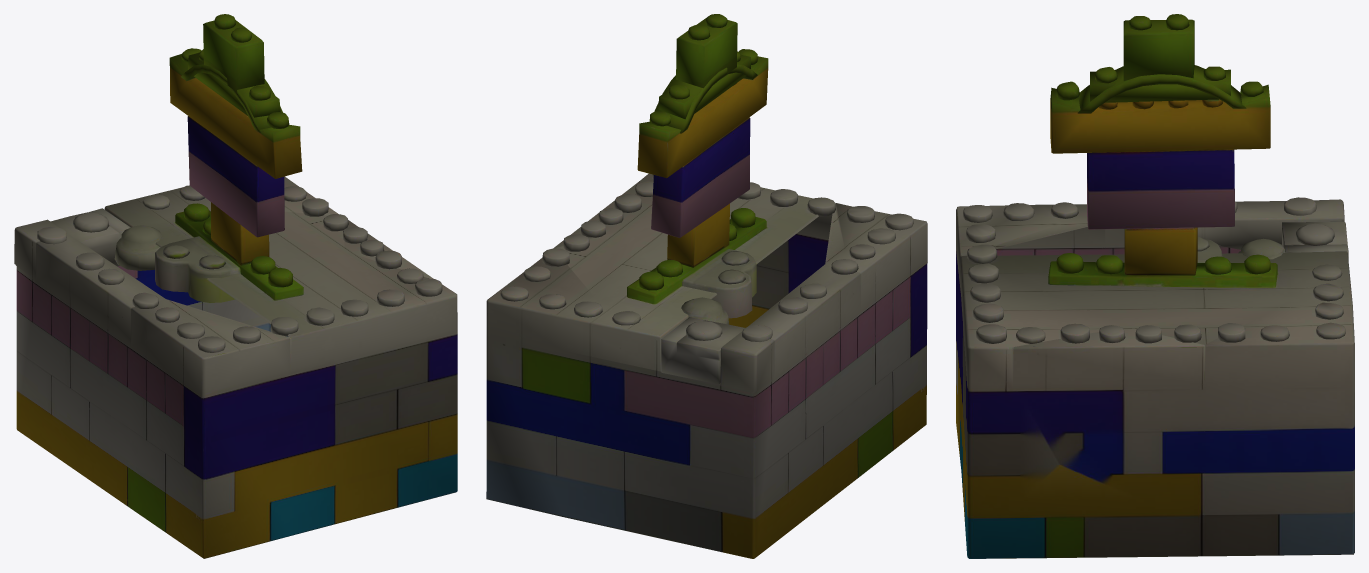
The model's file is object_71_asset_3ecd6b71.glb.
3 views of the same model, side by side, from view 1: azimuth 30°, elevation 25°; view 2: azimuth 150°, elevation 25°; view 3: azimuth 270°, elevation 25° (orthographic). The views are drawn at different scales.
Parts seen in each view (by area): view 1: tripo_node_6d704002-8f1d-427f-b623-e9d689cc9f14; view 2: tripo_node_6d704002-8f1d-427f-b623-e9d689cc9f14; view 3: tripo_node_6d704002-8f1d-427f-b623-e9d689cc9f14.
Part boxes in pixels (<box>): tripo_node_6d704002-8f1d-427f-b623-e9d689cc9f14: <box>14,14,457,558</box>; tripo_node_6d704002-8f1d-427f-b623-e9d689cc9f14: <box>486,14,927,558</box>; tripo_node_6d704002-8f1d-427f-b623-e9d689cc9f14: <box>956,14,1354,558</box>.
Size of the model in its own units: 0.6465 by 0.998 by 0.7676.
Materials: 1 (1 with a texture image).
